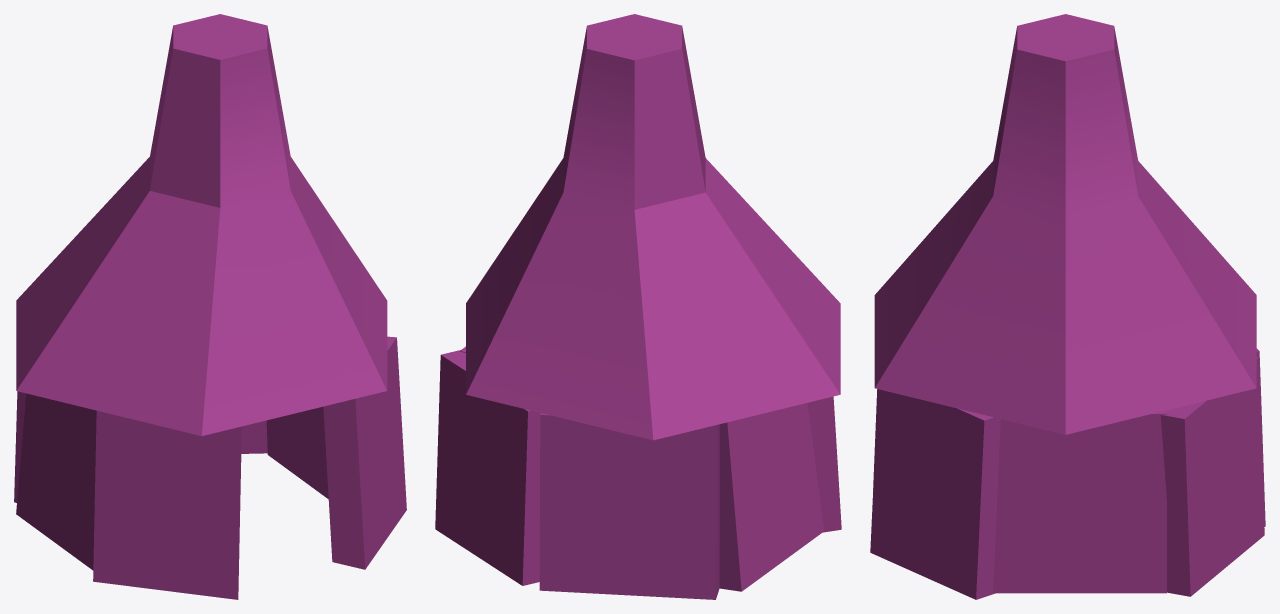
File: SM_Bld_Tent_Small_01_Collision.fbx
3 views of the same model, side by side, from view 1: azimuth 30°, elevation 25°; view 2: azimuth 150°, elevation 25°; view 3: azimuth 270°, elevation 25° (orthographic). The views are drawn at different scales.
Visible parts, largest first — view 1: SM_Bld_Tent_Small_01_Collision; view 2: SM_Bld_Tent_Small_01_Collision; view 3: SM_Bld_Tent_Small_01_Collision.
Part boxes in pixels (box(x1,y1,x2,y2)): SM_Bld_Tent_Small_01_Collision: box(14, 14, 406, 599); SM_Bld_Tent_Small_01_Collision: box(435, 14, 841, 599); SM_Bld_Tent_Small_01_Collision: box(870, 14, 1265, 599).
Bounding box in the file's own units: 499 × 615 × 448.
